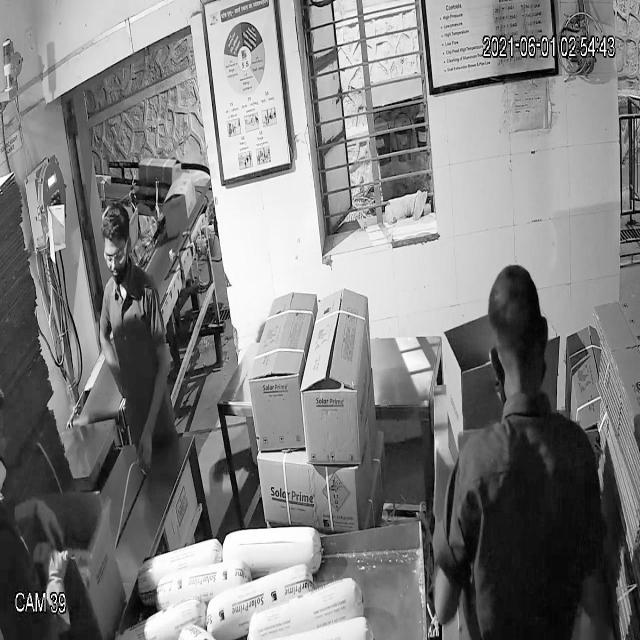glasses: (97, 240, 137, 271)
